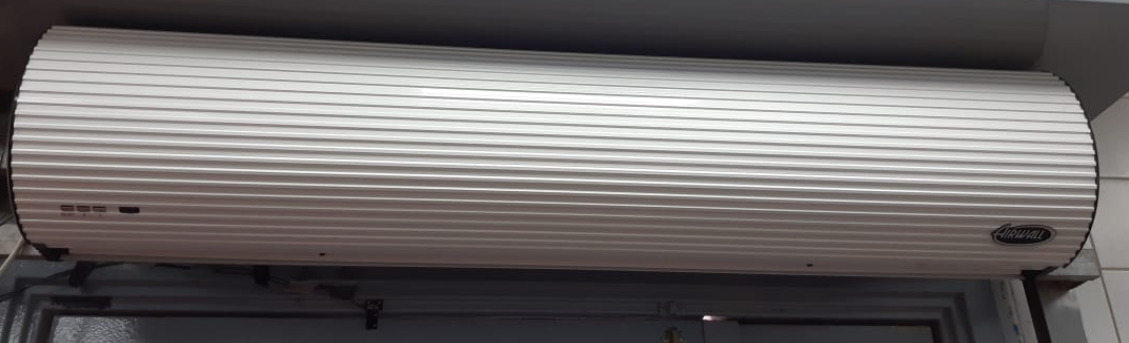Air Curtain: (7, 11, 1111, 330)
